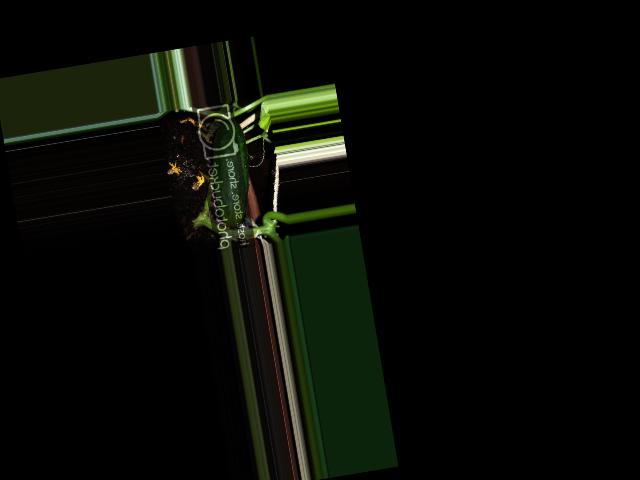cucumber: (202, 117, 258, 229)
